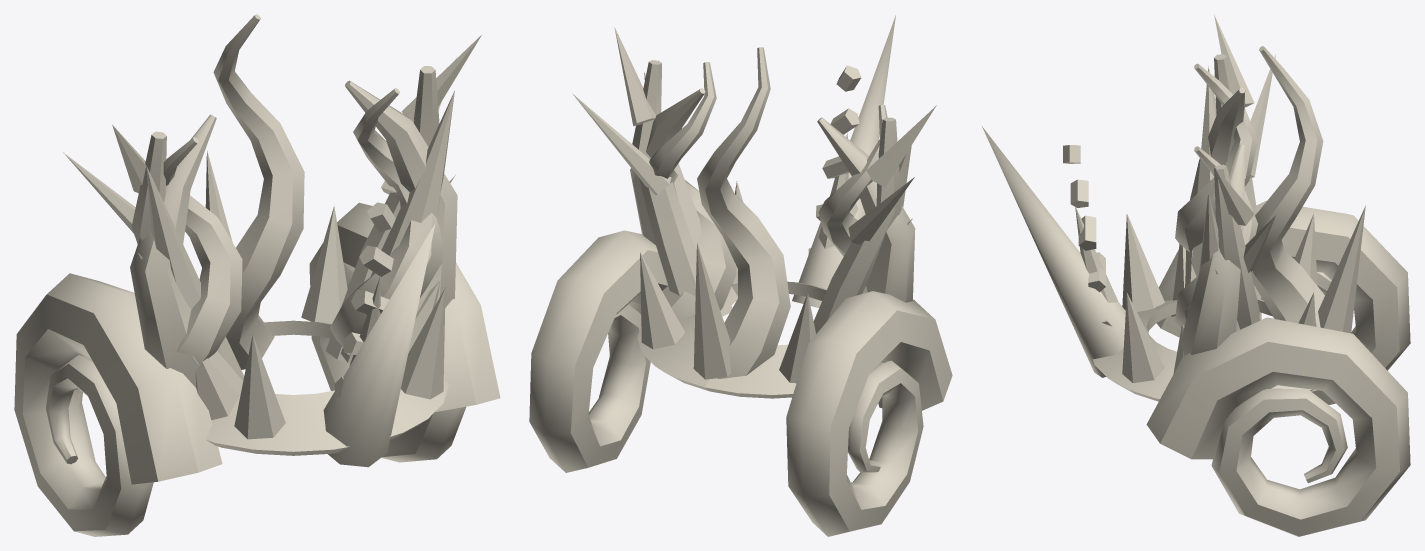
Rendered from Cuernos.fbx.
3 views of the same model, side by side, from view 1: azimuth 30°, elevation 25°; view 2: azimuth 150°, elevation 25°; view 3: azimuth 270°, elevation 25° (orthographic). The views are drawn at different scales.
Visible parts, largest first — view 1: Cuerno_Carnero__Cabeza__Cuerno, Cuerno_Retorcidos__Cabeza__Cuerno, Cuerno_Corona__Cabeza__Cuerno, Cuerno_Curvos__Cabeza__Cuerno, Cuerno_Unicornio__Cabeza__Cuerno, Cuerno_Astas__Cabeza__Cuerno, Cuerno_Rectos__Cabeza__Cuerno, Cuerno_Diablillo__Cabeza__Cuerno; view 2: Cuerno_Carnero__Cabeza__Cuerno, Cuerno_Retorcidos__Cabeza__Cuerno, Cuerno_Astas__Cabeza__Cuerno, Cuerno_Corona__Cabeza__Cuerno, Cuerno_Curvos__Cabeza__Cuerno, Cuerno_Unicornio__Cabeza__Cuerno, Cuerno_Rectos__Cabeza__Cuerno; view 3: Cuerno_Carnero__Cabeza__Cuerno, Cuerno_Retorcidos__Cabeza__Cuerno, Cuerno_Corona__Cabeza__Cuerno, Cuerno_Unicornio__Cabeza__Cuerno, Cuerno_Curvos__Cabeza__Cuerno, Cuerno_Astas__Cabeza__Cuerno, Cuerno_Rectos__Cabeza__Cuerno, Cuerno_Diablillo__Cabeza__Cuerno.
Boxes of the visible parts, bbox=[...] form: Cuerno_Carnero__Cabeza__Cuerno: bbox=[14, 202, 500, 536]; Cuerno_Retorcidos__Cabeza__Cuerno: bbox=[163, 14, 442, 369]; Cuerno_Corona__Cabeza__Cuerno: bbox=[205, 150, 448, 455]; Cuerno_Curvos__Cabeza__Cuerno: bbox=[130, 80, 457, 395]; Cuerno_Unicornio__Cabeza__Cuerno: bbox=[323, 202, 435, 467]; Cuerno_Astas__Cabeza__Cuerno: bbox=[63, 35, 481, 362]; Cuerno_Rectos__Cabeza__Cuerno: bbox=[146, 90, 454, 378]; Cuerno_Diablillo__Cabeza__Cuerno: bbox=[195, 280, 440, 420]; Cuerno_Carnero__Cabeza__Cuerno: bbox=[529, 230, 952, 536]; Cuerno_Retorcidos__Cabeza__Cuerno: bbox=[649, 47, 887, 378]; Cuerno_Astas__Cabeza__Cuerno: bbox=[572, 27, 936, 333]; Cuerno_Corona__Cabeza__Cuerno: bbox=[637, 133, 848, 398]; Cuerno_Curvos__Cabeza__Cuerno: bbox=[630, 88, 915, 308]; Cuerno_Unicornio__Cabeza__Cuerno: bbox=[792, 15, 895, 307]; Cuerno_Rectos__Cabeza__Cuerno: bbox=[644, 72, 911, 316]; Cuerno_Carnero__Cabeza__Cuerno: bbox=[1146, 200, 1410, 536]; Cuerno_Retorcidos__Cabeza__Cuerno: bbox=[1175, 46, 1324, 328]; Cuerno_Corona__Cabeza__Cuerno: bbox=[1075, 205, 1365, 401]; Cuerno_Unicornio__Cabeza__Cuerno: bbox=[982, 126, 1125, 377]; Cuerno_Curvos__Cabeza__Cuerno: bbox=[1181, 87, 1245, 355]; Cuerno_Astas__Cabeza__Cuerno: bbox=[1214, 15, 1275, 329]; Cuerno_Rectos__Cabeza__Cuerno: bbox=[1191, 66, 1240, 331]; Cuerno_Diablillo__Cabeza__Cuerno: bbox=[1171, 244, 1185, 373].
Size of the model in its own units: 0.4938 by 0.6016 by 0.5533.
